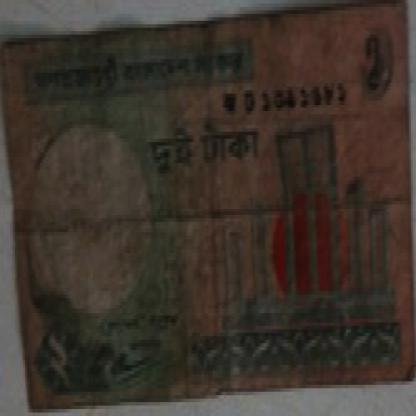two taka: (33, 316, 93, 412), (350, 28, 394, 121)
